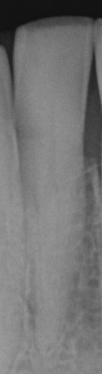tooth: (13, 14, 94, 352)
